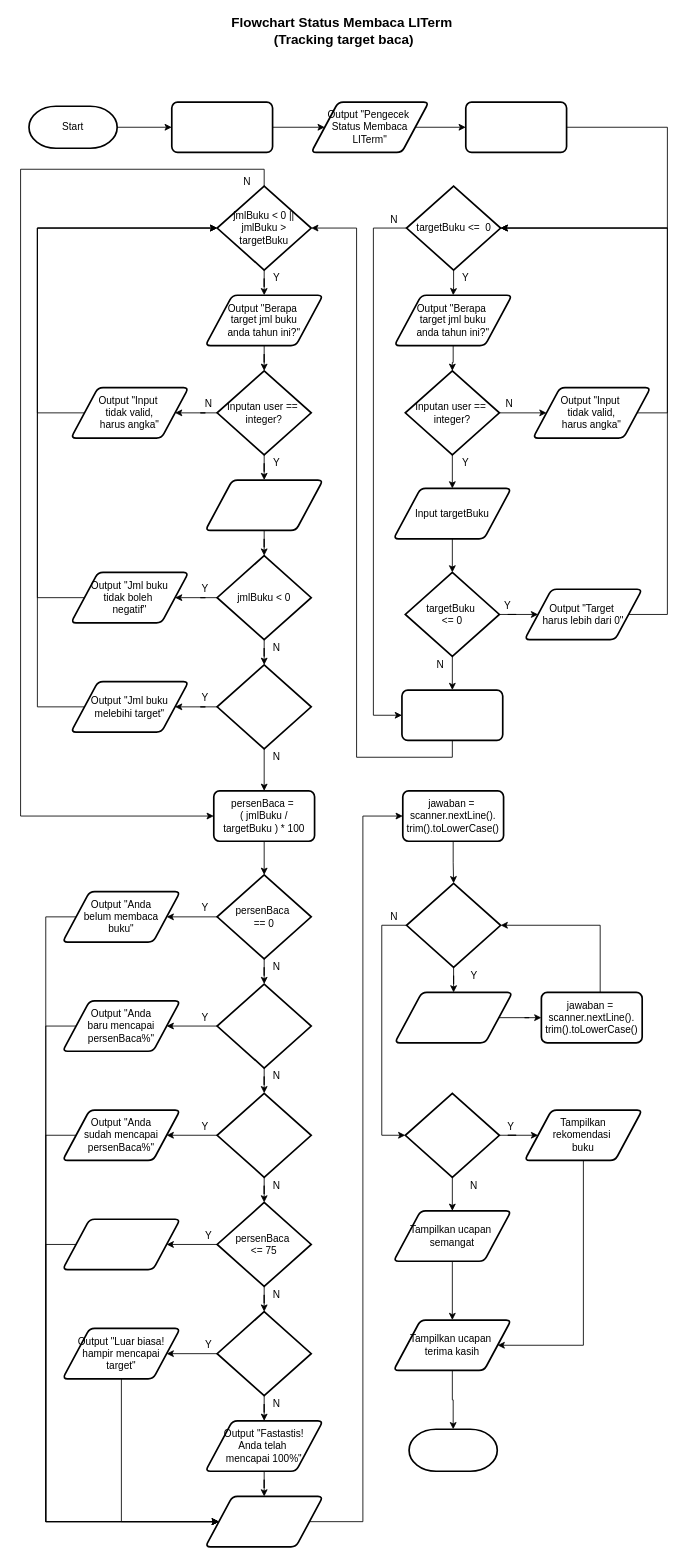
Some shapes in this 689 by 1562 pixel diagram are drawn without their labels. The centre of each missing label's shape, as x and y in pixels:
End: [453,1450]
Inisialisasi scanner: [222,127]
Input jmlBuku: [263,505]
jawaban != "ya" && jawaban != "tidak": [453,925]
jawaban == "ya": [452,1135]
jmlBuku = -1: [452,715]
jmlBuku > targetBuku: [264,706]
Output "Apakah ingin mendapatkan rekomendasi? ": [263,1521]
Output "Hebat! Anda sudah mencapai persenBaca%": [121,1244]
Output "Jawaban tidak valid": [453,1017]
persenBaca < 100: [264,1353]
persenBaca <= 25: [264,1025]
persenBaca <= 50: [264,1135]
targetBuku = 0: [516,127]
